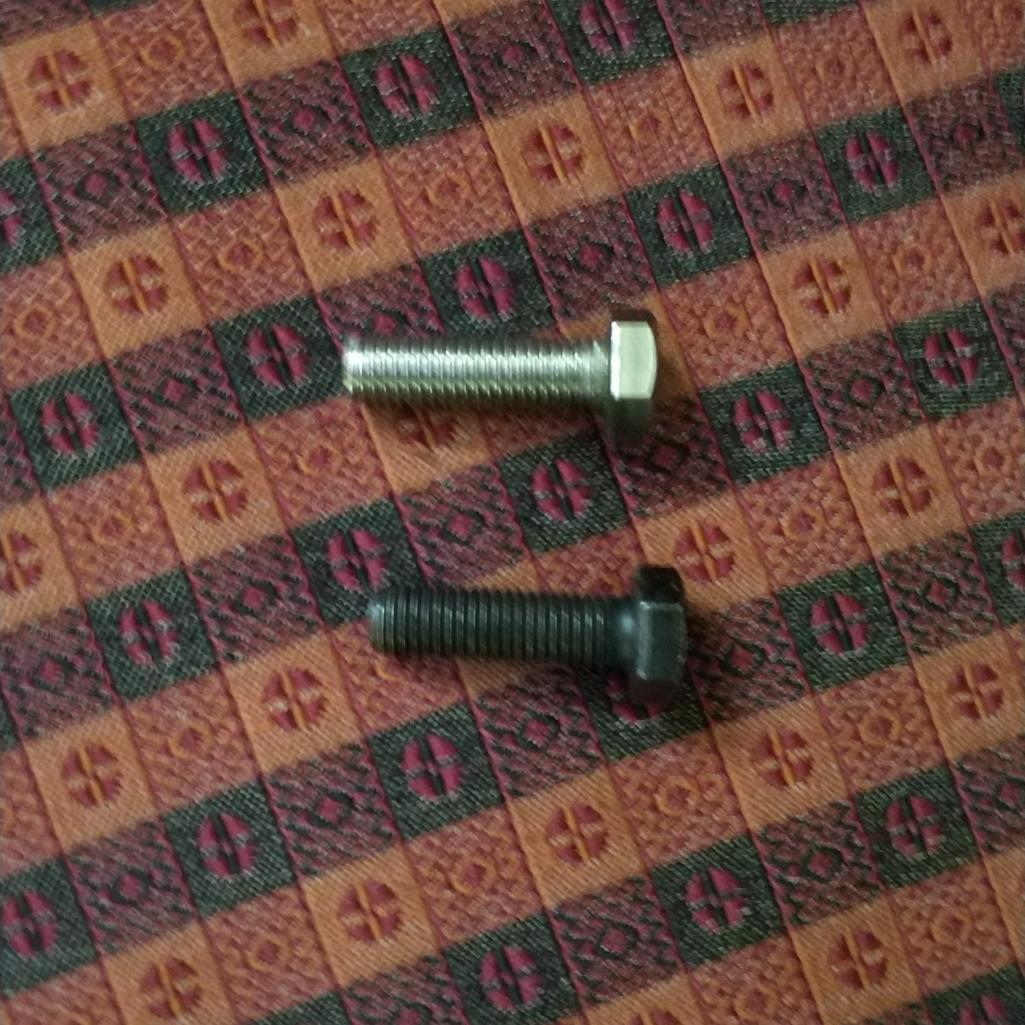screwtype2black: (362, 562, 690, 714)
screwtype2silver: (323, 297, 662, 467)
